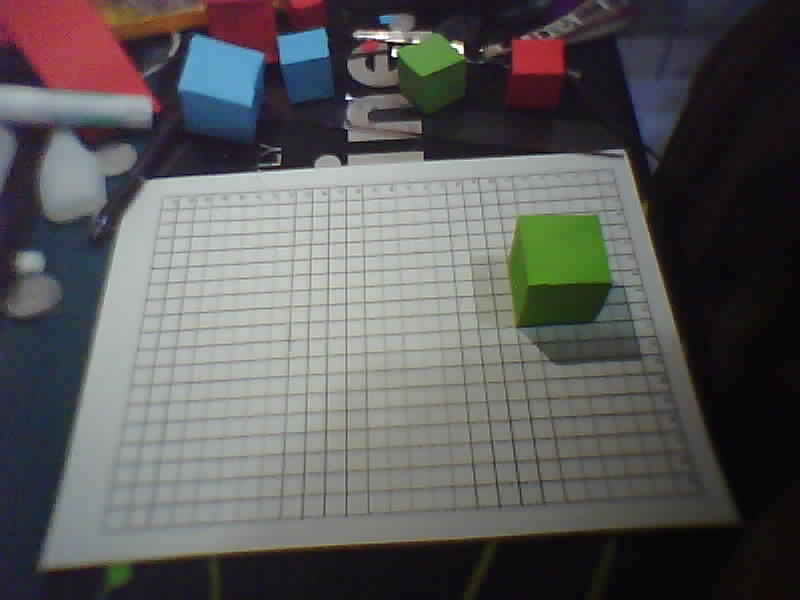green(4x4x4): (496, 213, 625, 330)
